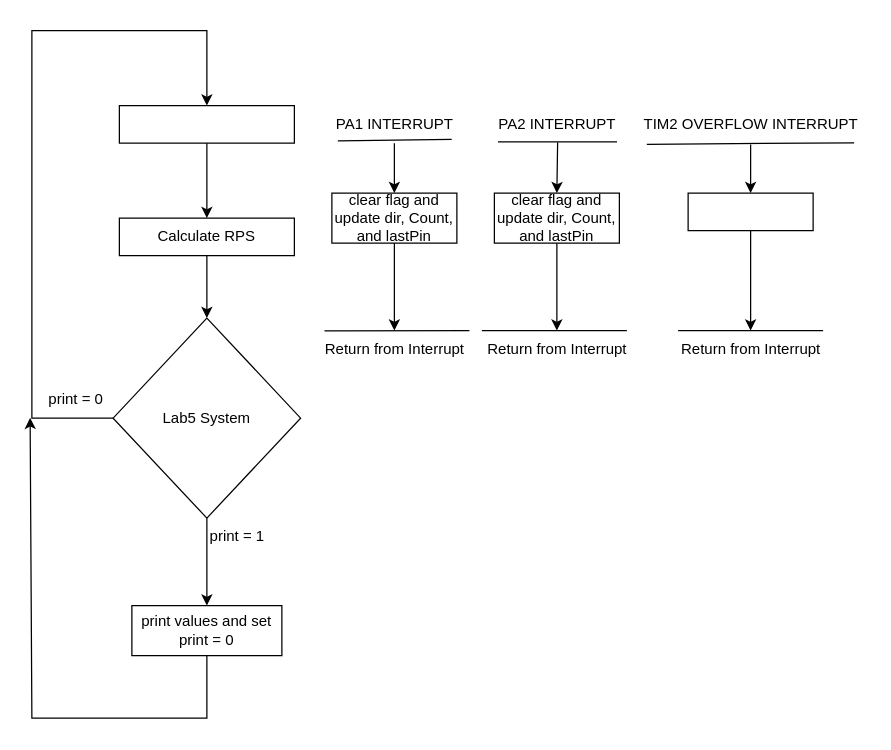
Some shapes in this 891 by 750 pixel diagram are drawn without their labels. The centre of each missing label's shape, as x and y in pixels:
reset counter and flag, print = 1: (750,211)
Update Count & print: (206,123)
